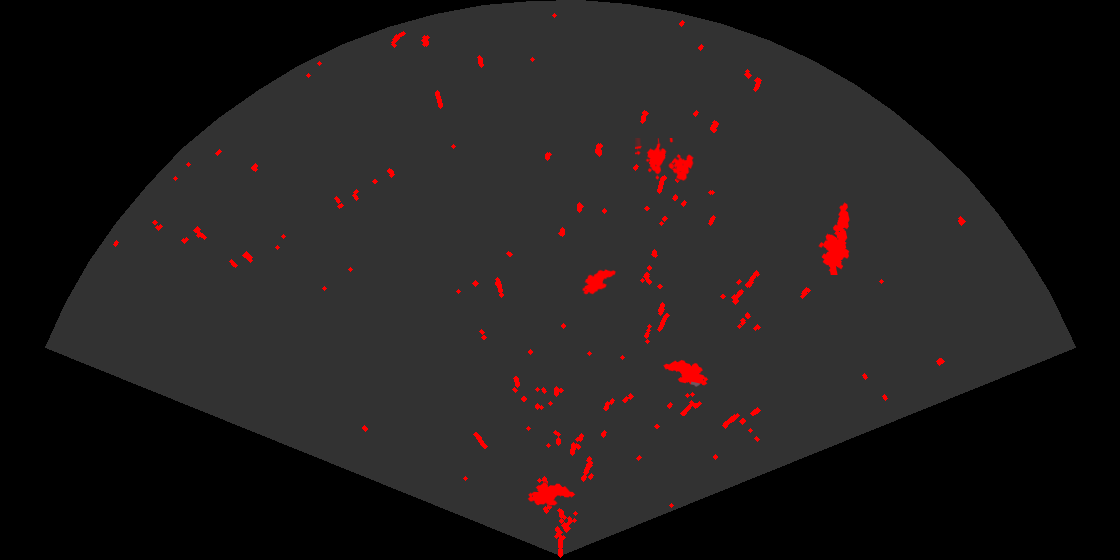AUV: (662, 358, 710, 388), (526, 481, 577, 507), (581, 268, 617, 296)
cage: (635, 138, 695, 182)
frogman: (817, 201, 851, 275)
